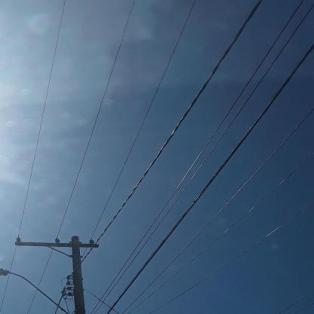Poste: (61, 228, 125, 314)
